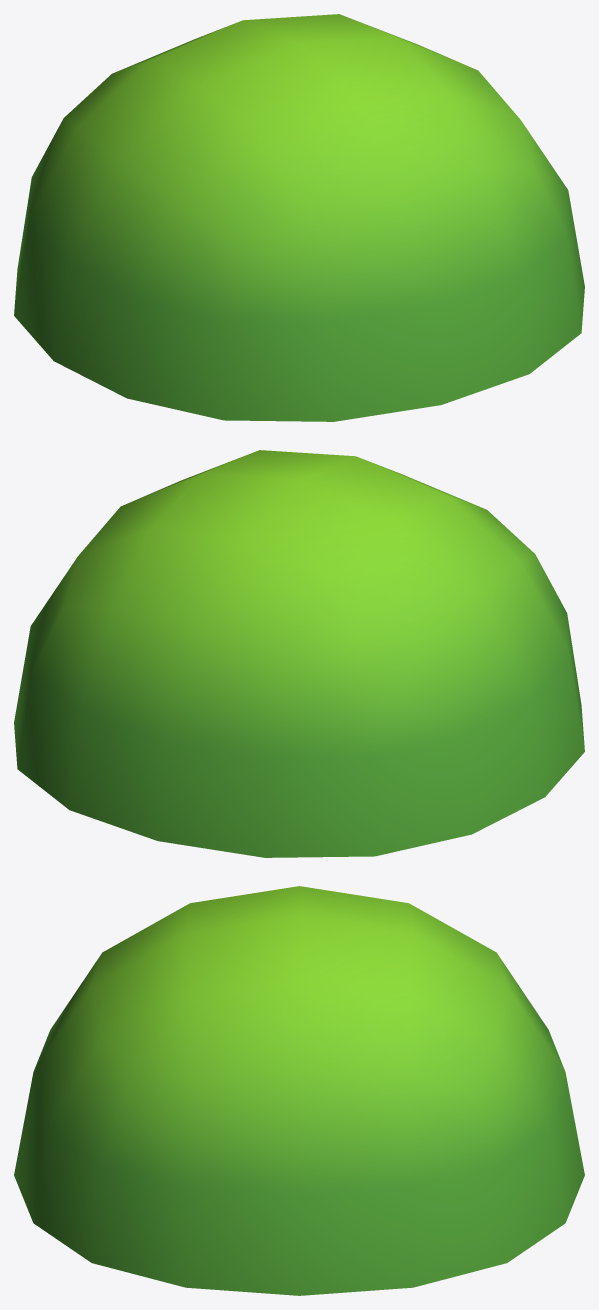
Rendered from Semak.fbx.
The picture shows the model from 3 angles, top to bottom: view 1: azimuth 30°, elevation 25°; view 2: azimuth 150°, elevation 25°; view 3: azimuth 270°, elevation 25°; orthographic projection.
Visible parts, largest first — view 1: Cube.027; view 2: Cube.027; view 3: Cube.027.
Boxes of the visible parts, x1,y1,x2,y2 form: Cube.027: [14, 14, 584, 421]; Cube.027: [14, 450, 584, 857]; Cube.027: [14, 886, 584, 1295].
Size of the model in its own units: 1.06 by 0.5313 by 1.06.
